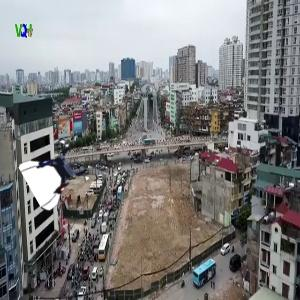drone: (27, 143, 89, 205)
